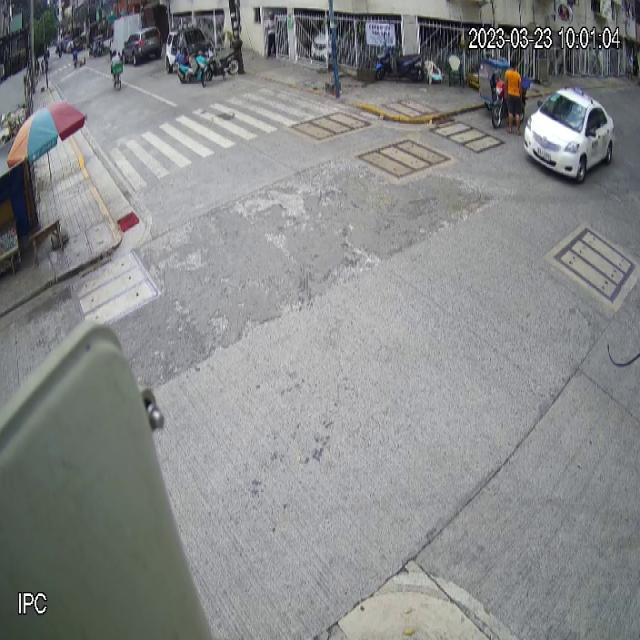Car: (524, 87, 616, 184)
